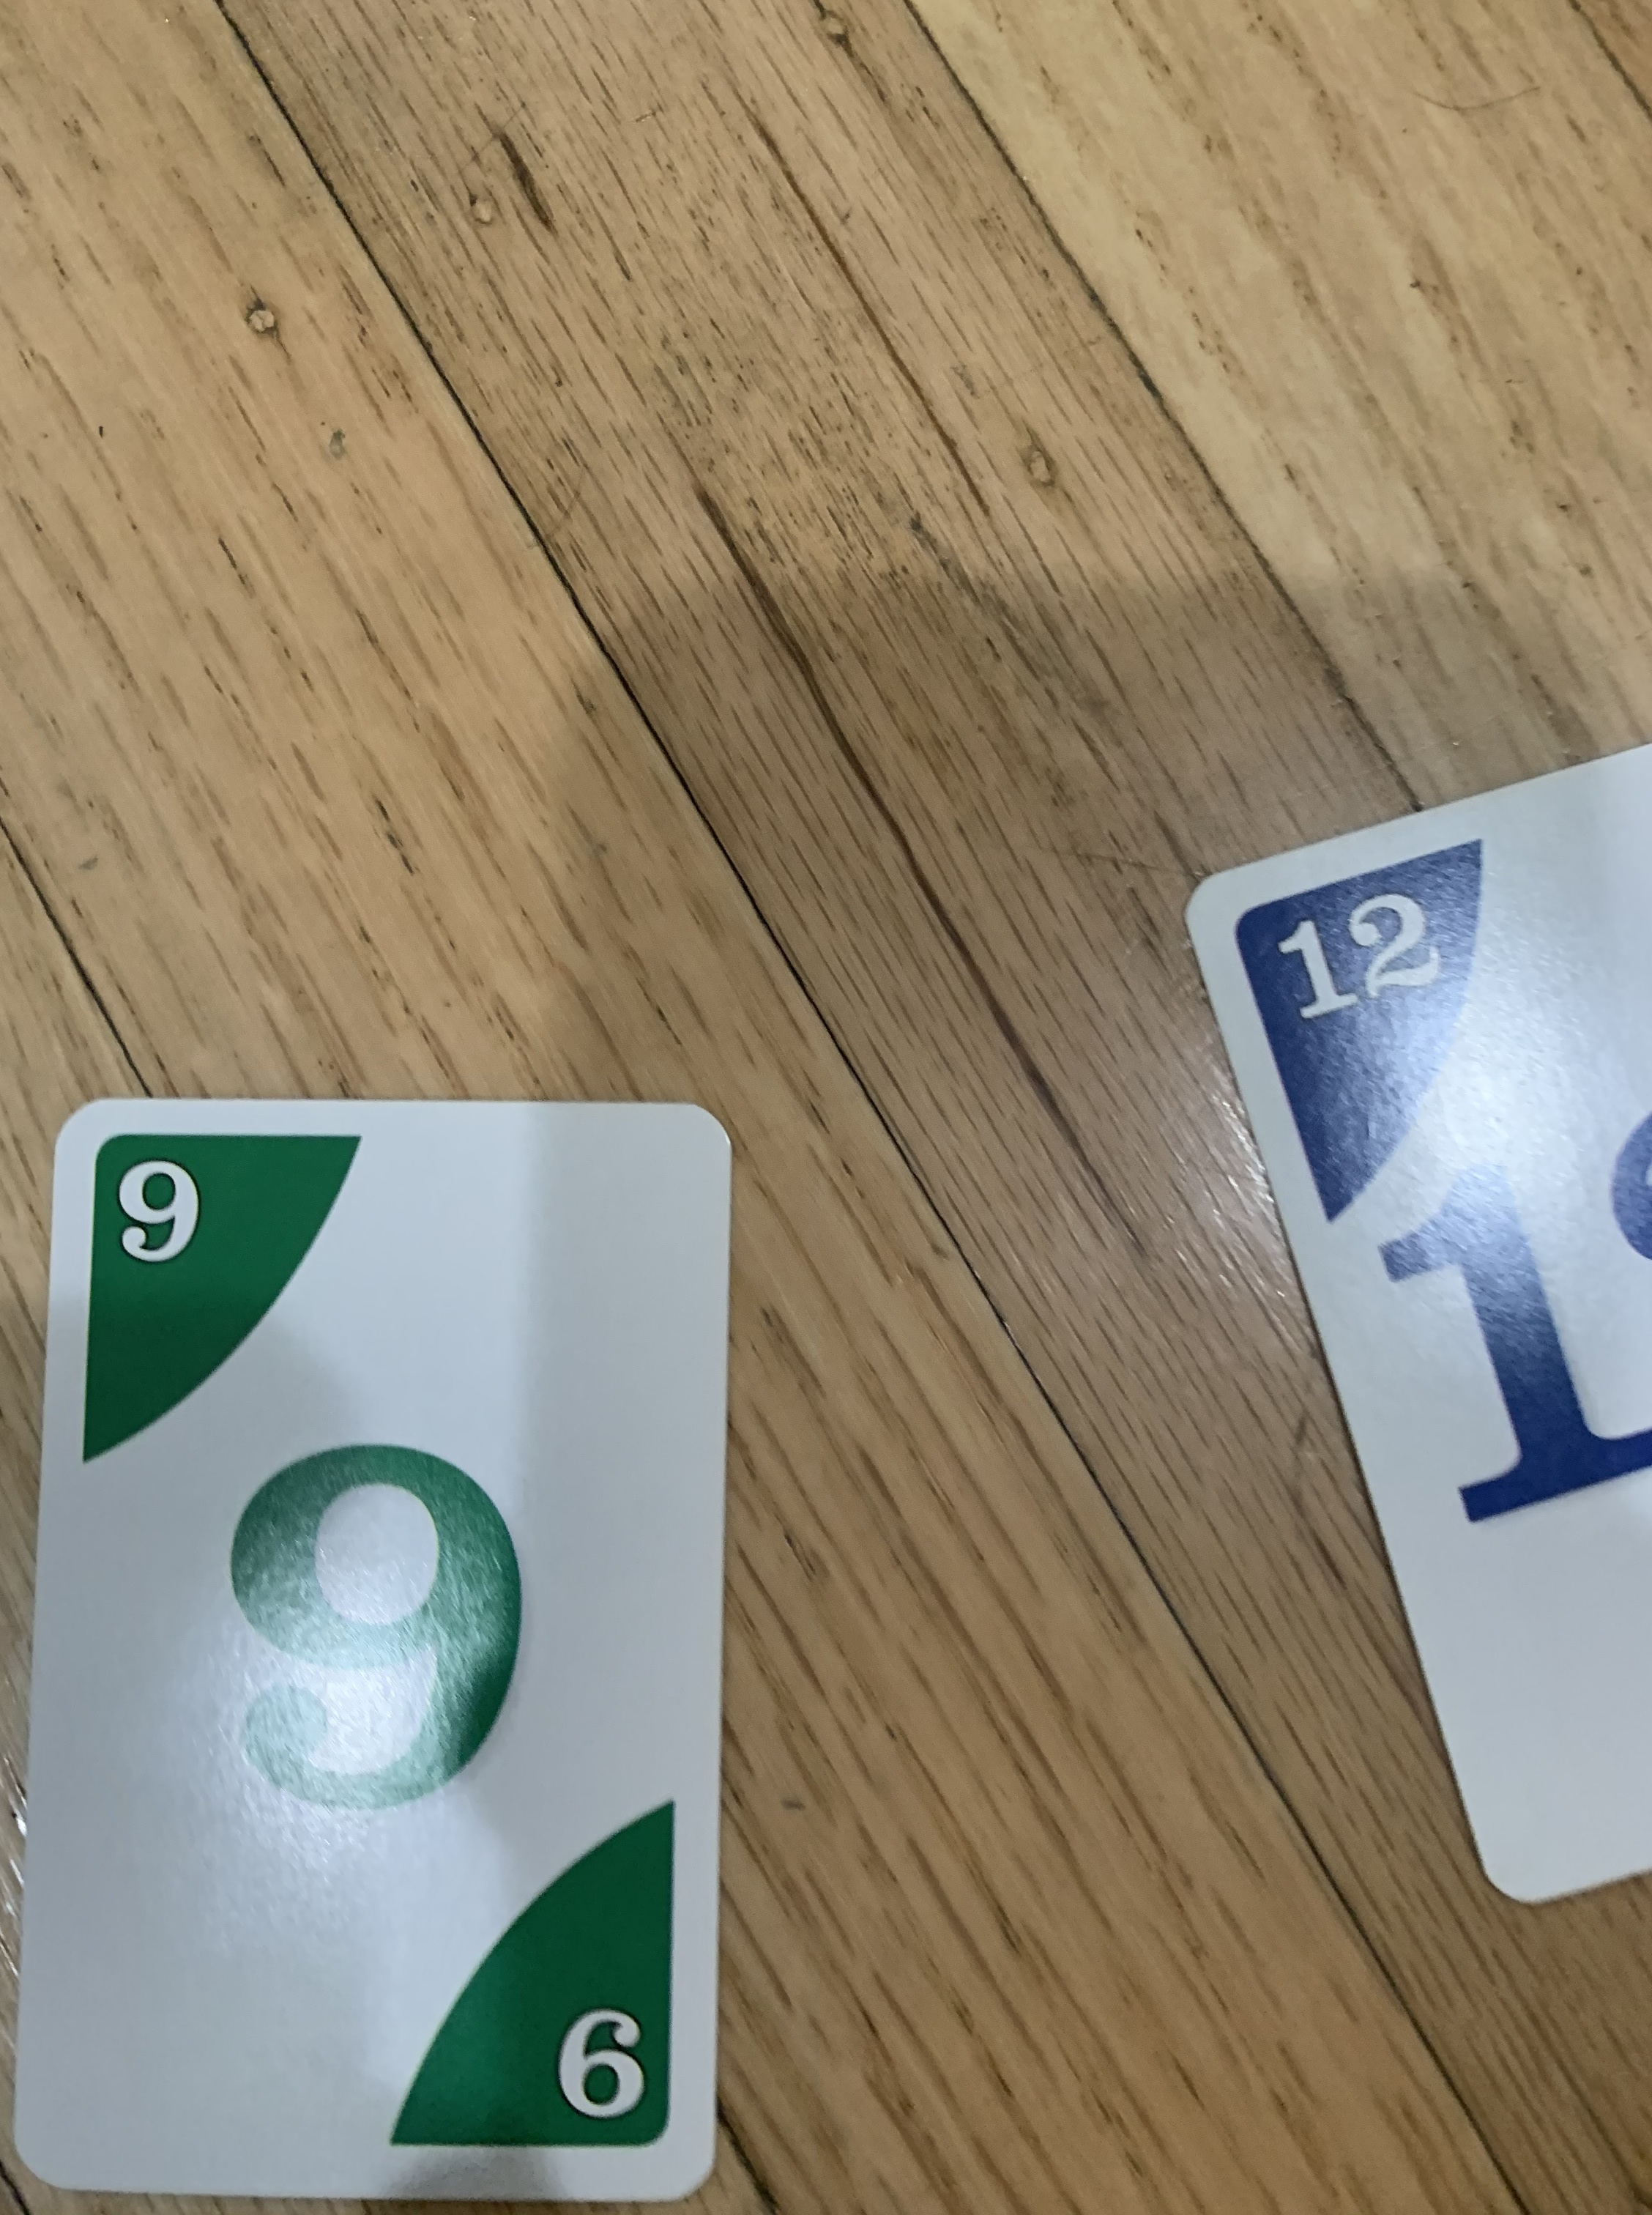nine: (3, 1104, 746, 2210)
